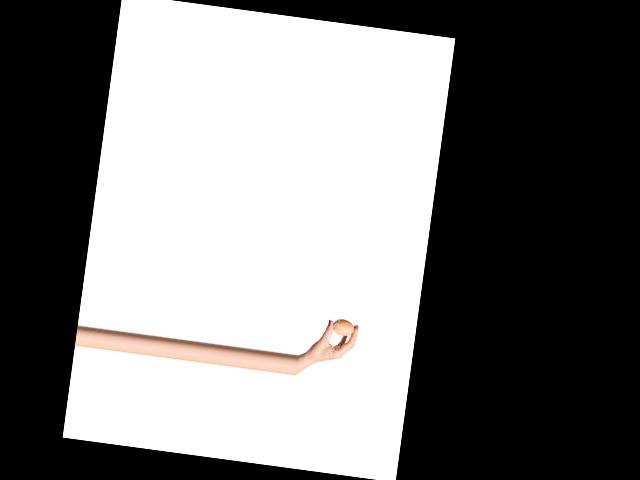egg: (331, 319, 354, 336)
